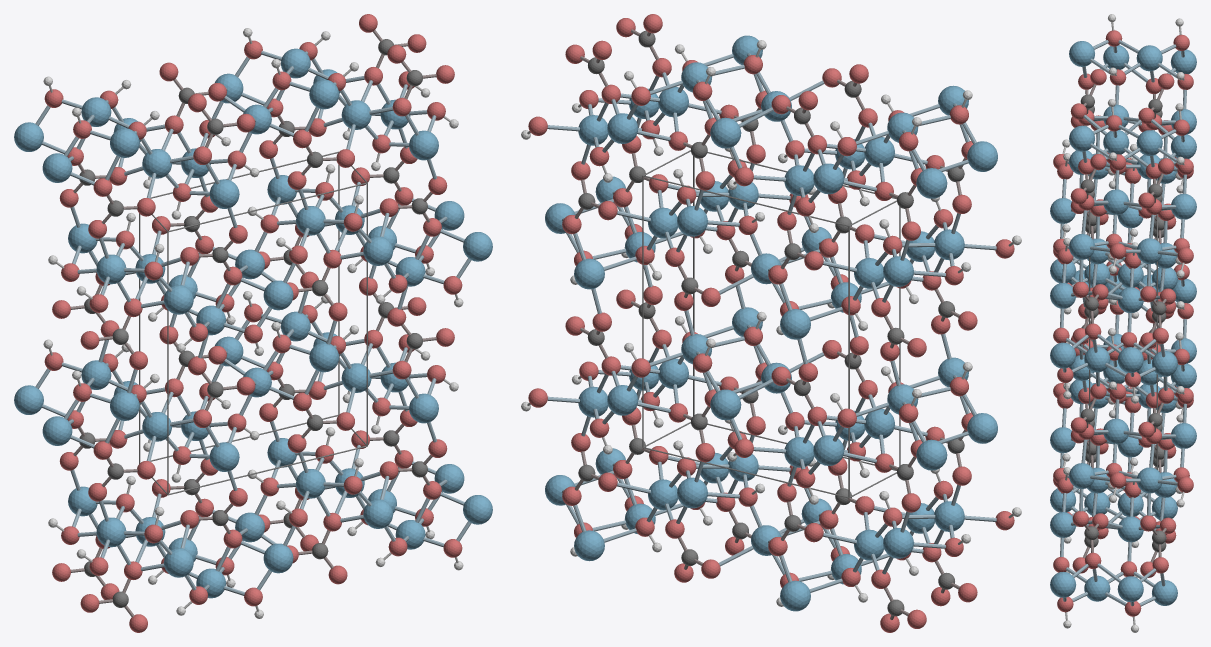
Rendered from Basic_copper_carbonate_malachite_AR_2x2x2.glb.
3 views of the same model, side by side, from view 1: azimuth 30°, elevation 25°; view 2: azimuth 150°, elevation 25°; view 3: azimuth 270°, elevation 25° (orthographic). The views are drawn at different scales.
Visible parts, largest first — view 1: O_atoms, Cu_atoms, bonds, C_atoms, H_atoms, unit_cell_outline; view 2: O_atoms, Cu_atoms, bonds, C_atoms, H_atoms, unit_cell_outline; view 3: Cu_atoms, O_atoms, bonds, C_atoms, H_atoms, unit_cell_outline.
Boxes of the visible parts, bbox=[...] form: O_atoms: bbox=[44, 14, 462, 632]; Cu_atoms: bbox=[14, 48, 492, 598]; bonds: bbox=[35, 30, 471, 617]; C_atoms: bbox=[79, 39, 427, 607]; H_atoms: bbox=[43, 28, 463, 618]; unit_cell_outline: bbox=[139, 151, 367, 495]; O_atoms: bbox=[528, 14, 1014, 632]; Cu_atoms: bbox=[545, 35, 997, 611]; bonds: bbox=[527, 29, 1013, 619]; C_atoms: bbox=[578, 30, 964, 616]; H_atoms: bbox=[521, 40, 1021, 606]; unit_cell_outline: bbox=[642, 150, 900, 498]; Cu_atoms: bbox=[1050, 41, 1196, 605]; O_atoms: bbox=[1053, 30, 1193, 616]; bonds: bbox=[1060, 22, 1186, 624]; C_atoms: bbox=[1080, 94, 1166, 551]; H_atoms: bbox=[1062, 14, 1184, 632]; unit_cell_outline: bbox=[1089, 174, 1157, 469].
Size of the model in its own units: 20.31 by 24.15 by 6.96.
